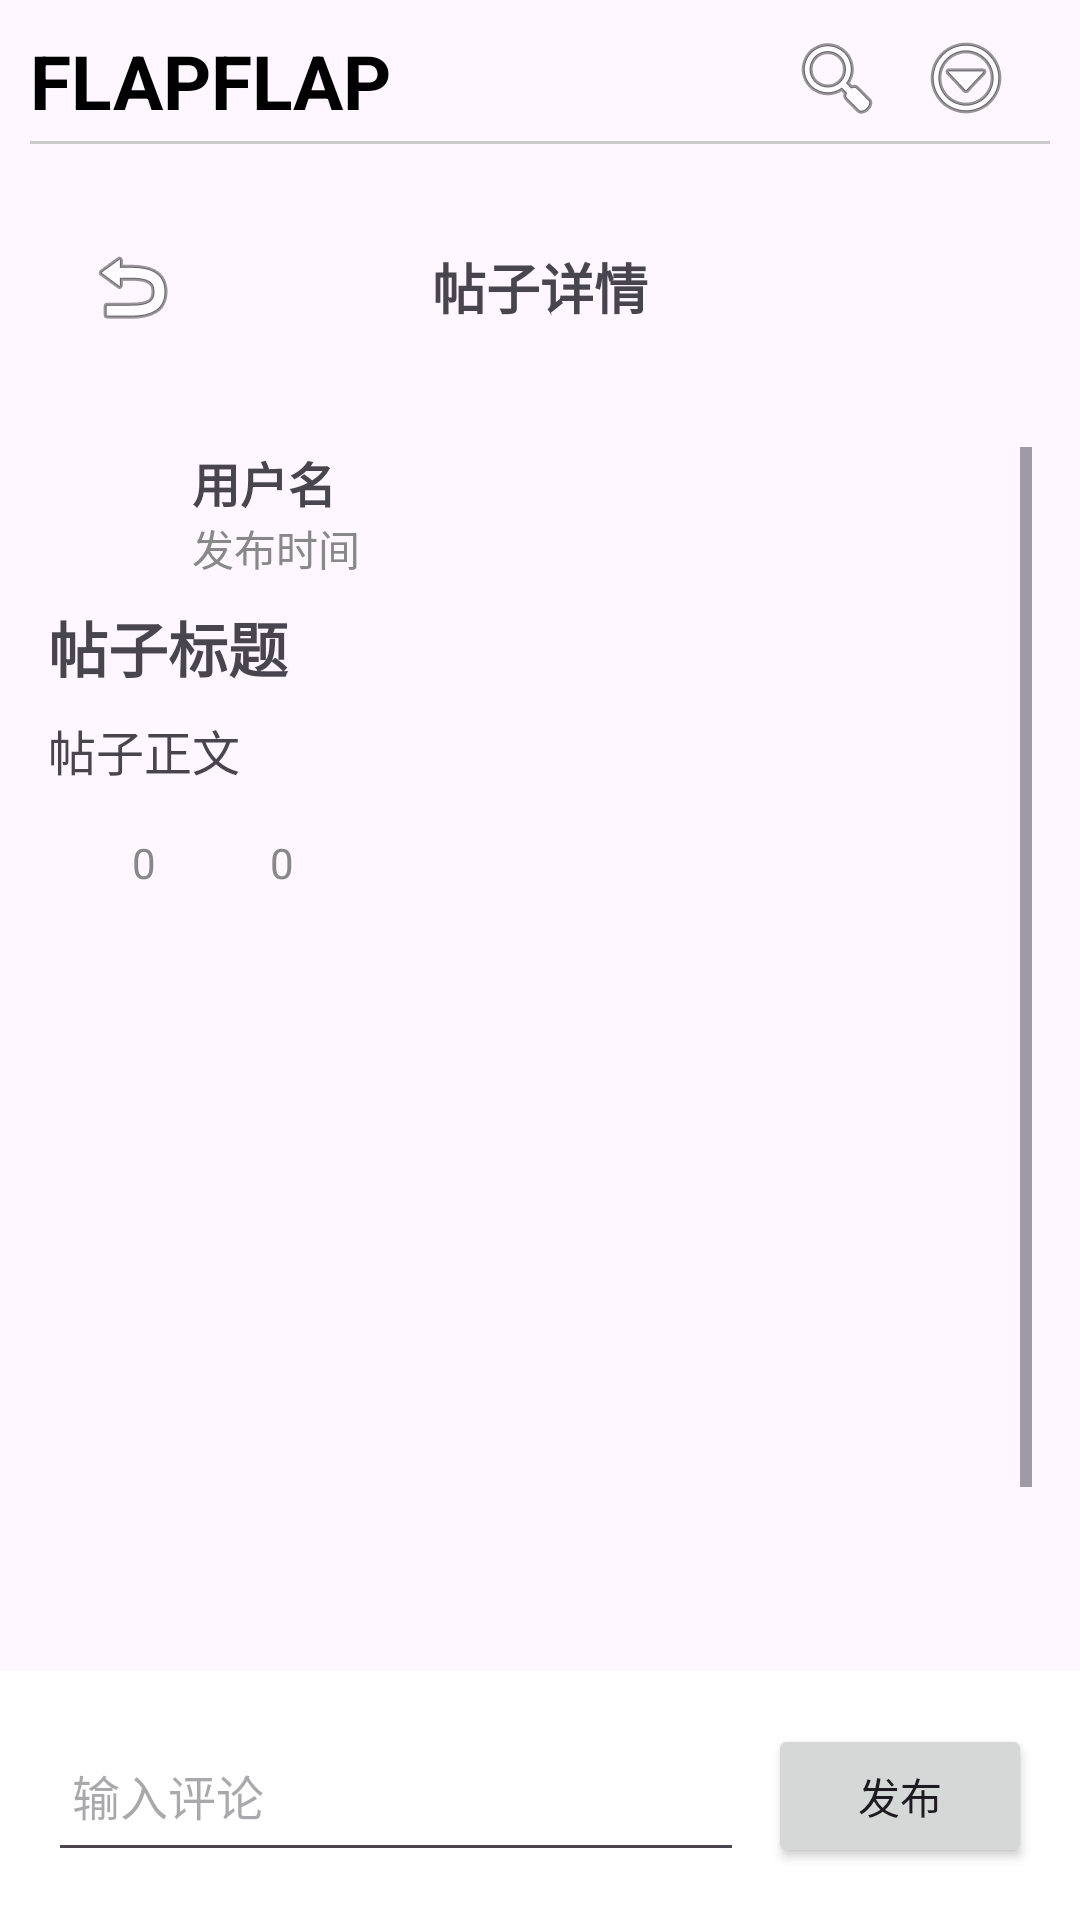

Screen size 1080x1920. Icon name, then its center in pixels as (x=x, y=y):
Menu: (x=966, y=78)
revert: (x=133, y=287)
Search: (x=837, y=78)
